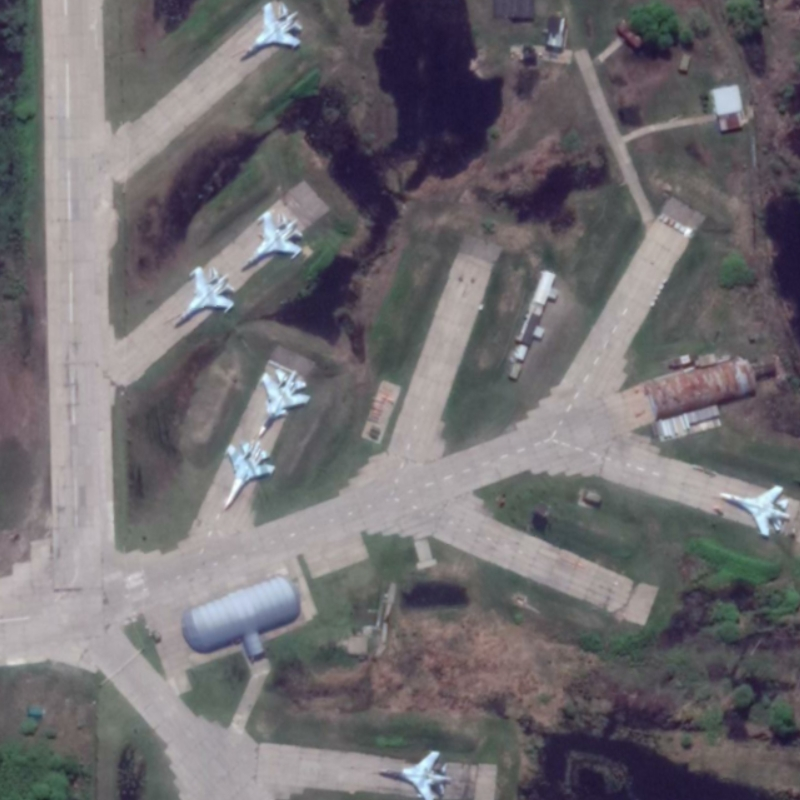A1: (168, 263, 237, 334), (235, 1, 305, 67), (239, 208, 306, 275), (218, 439, 277, 513), (374, 748, 457, 800), (715, 482, 792, 537)
A19: (254, 367, 311, 439)
